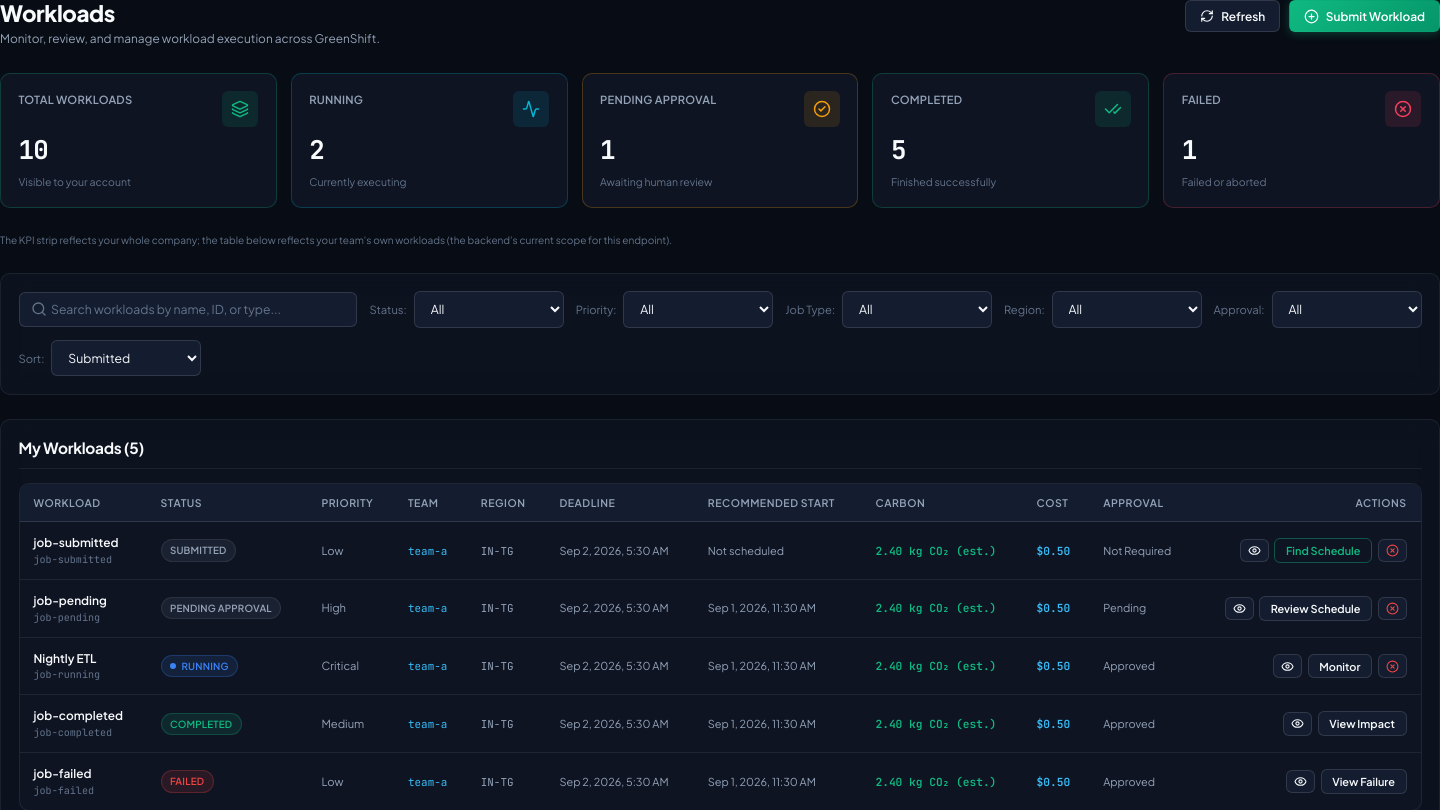
Test: WorkloadsPage › filters by approval status
The width and height of the screenshot is (1440, 810).
Select "Pending" in the dropdown named "filter by approval": (1346, 309) [1272, 291, 1422, 328]
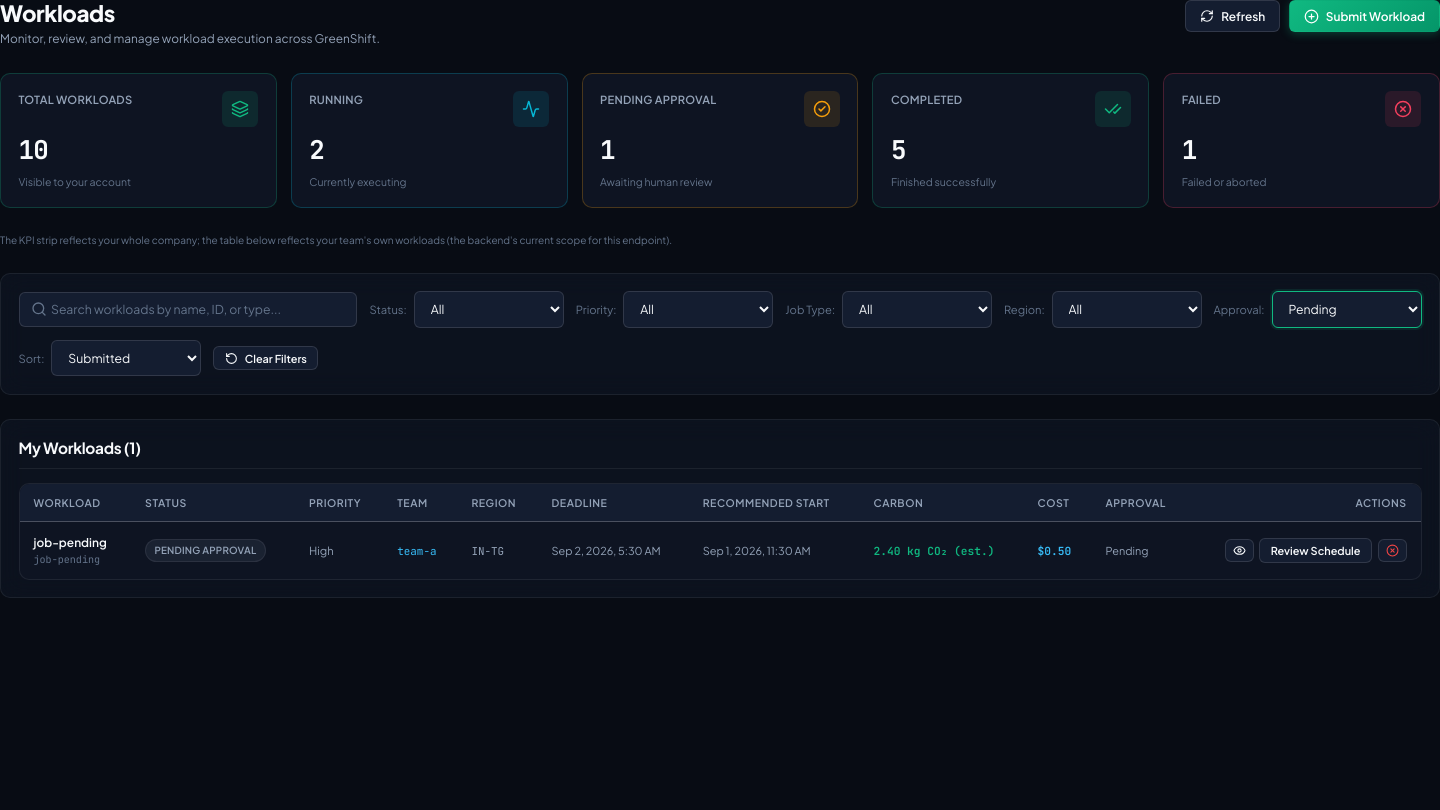
Expected: the row with test id "workload-row-job-pending" is shown, [20, 522, 1420, 579]
Now the row with test id "workload-row-job-completed" is gone
